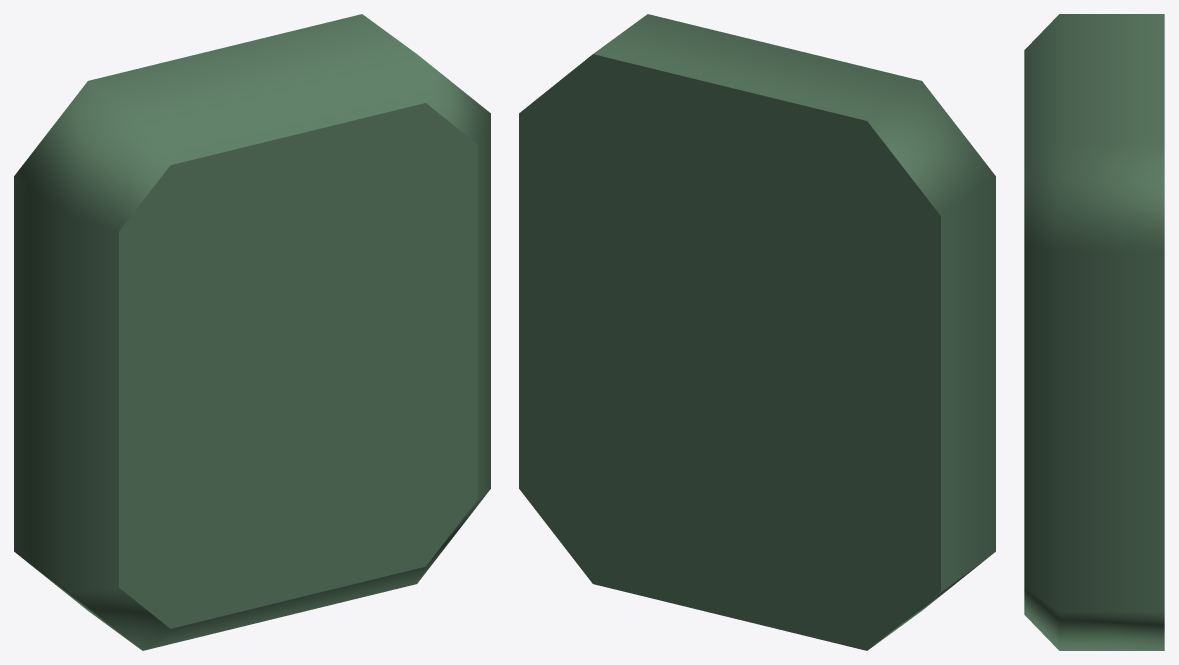
Rendered from t10_scrubber.obj.
The picture shows the model from 3 angles, left to right: view 1: azimuth 30°, elevation 25°; view 2: azimuth 150°, elevation 25°; view 3: azimuth 270°, elevation 25°; orthographic projection. The views are drawn at different scales.
Visible parts, largest first — view 1: t10_scrubber; view 2: t10_scrubber; view 3: t10_scrubber.
Boxes of the visible parts, x1,y1,x2,y2 form: t10_scrubber: [14, 14, 490, 650]; t10_scrubber: [519, 14, 995, 650]; t10_scrubber: [1024, 14, 1164, 650].
Size of the model in its own units: 0.8 by 0.96 by 0.24.
